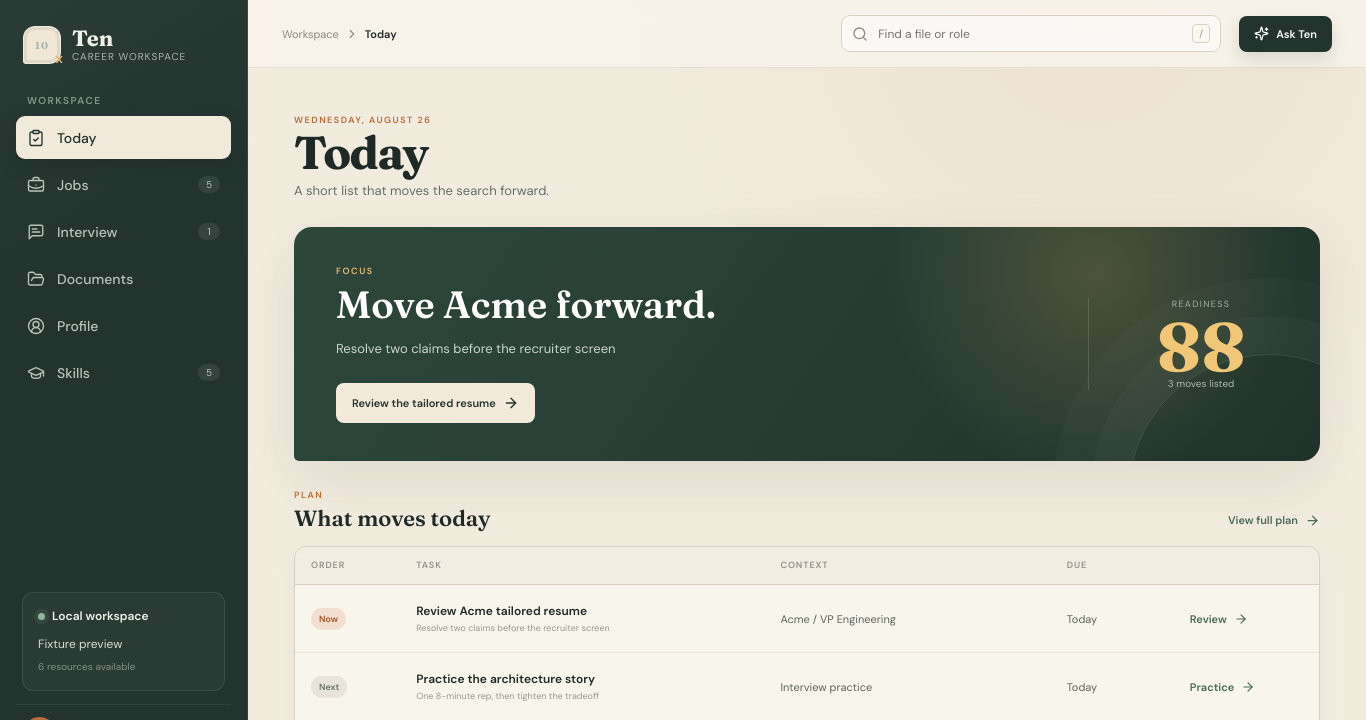
Test: workspace preview › selects and edits a document through the fixture provider
Click the button "Documents" at (124, 278), box x1=16 y1=257 x2=231 y2=300
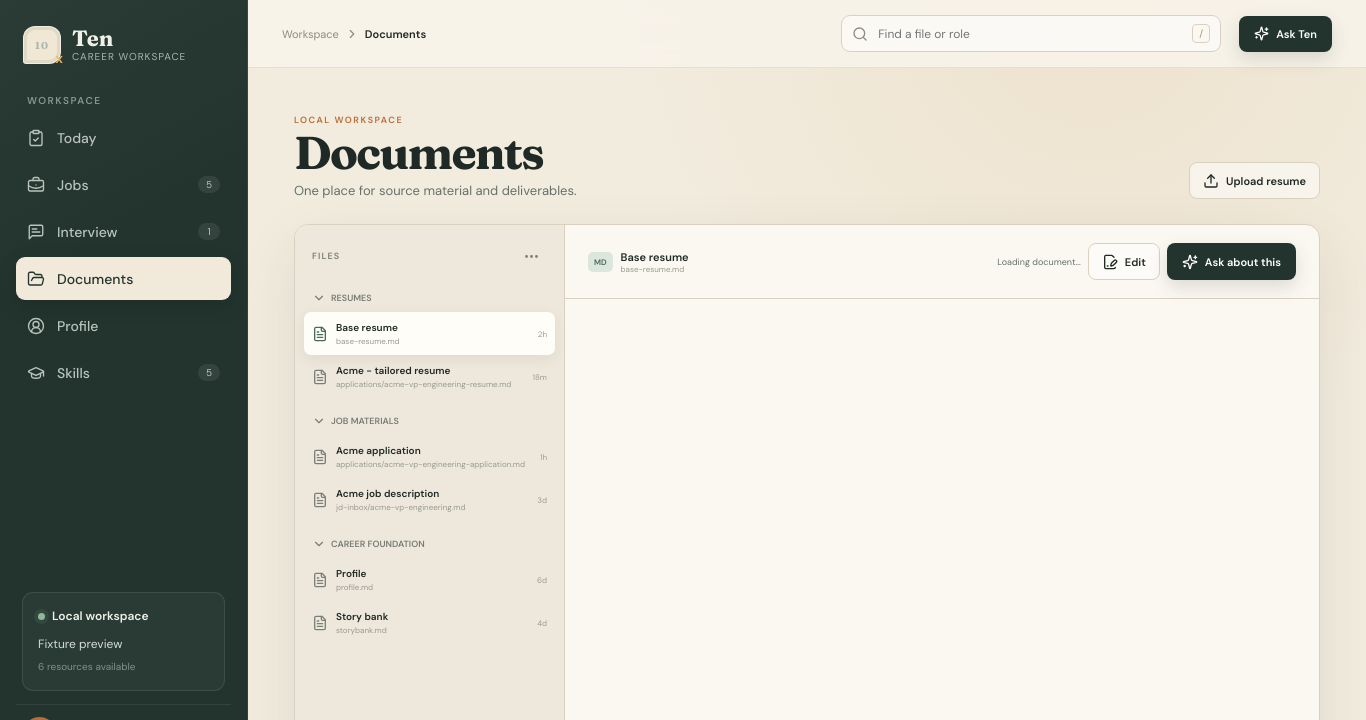
Click the button "Base resume base-resume.md 2h" at (430, 334), box x1=304 y1=312 x2=555 y2=355
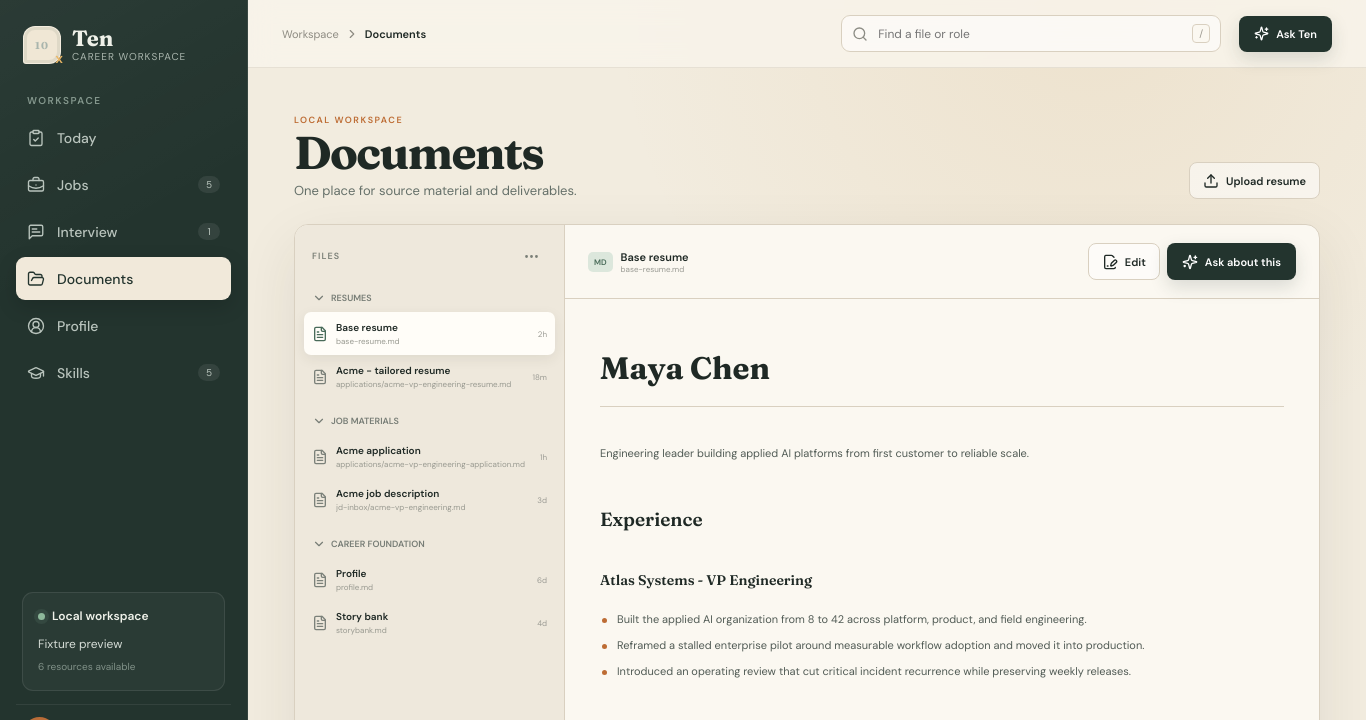
Now the heading "Maya Chen" is shown, box x1=600 y1=349 x2=1284 y2=407
Click the button "Edit" at (1124, 262), box x1=1088 y1=243 x2=1160 y2=280
(page scrolled)
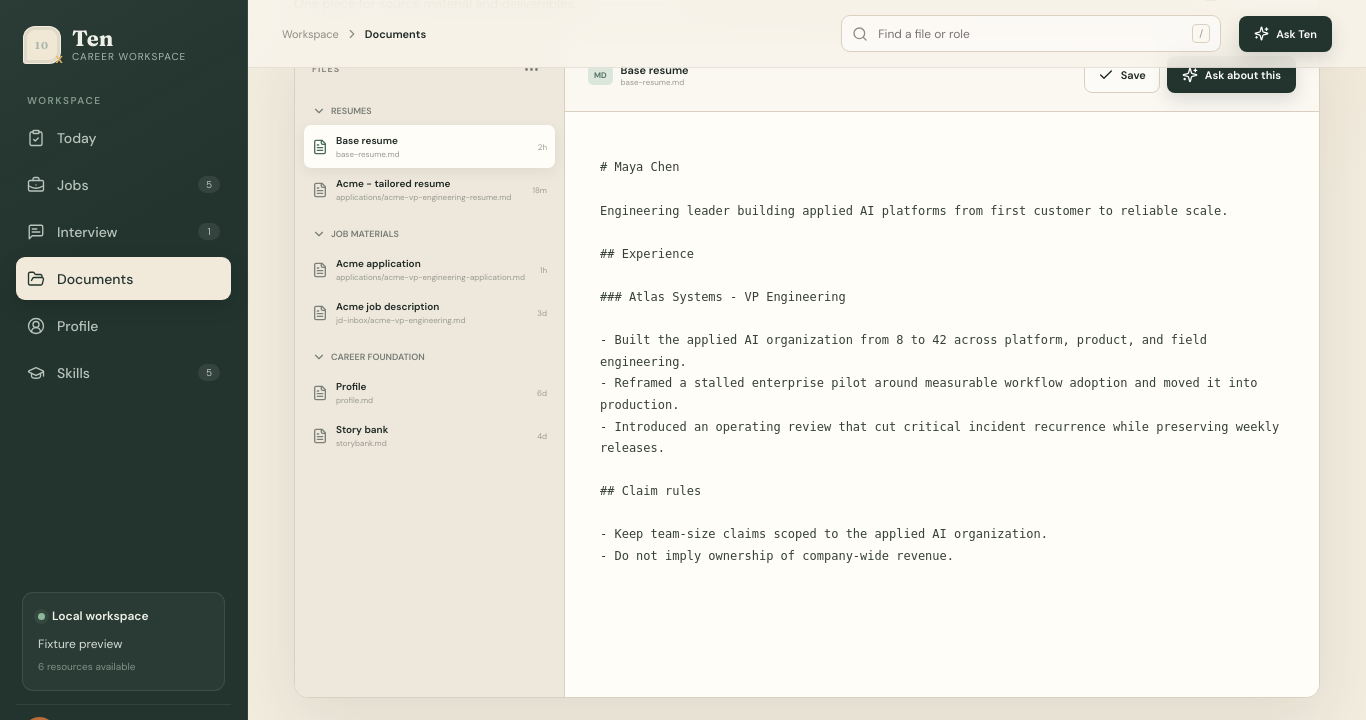
Replace the text in the text box named "Edit Base resume" with "# Revised fixture resume" at (942, 405), box x1=565 y1=112 x2=1319 y2=697
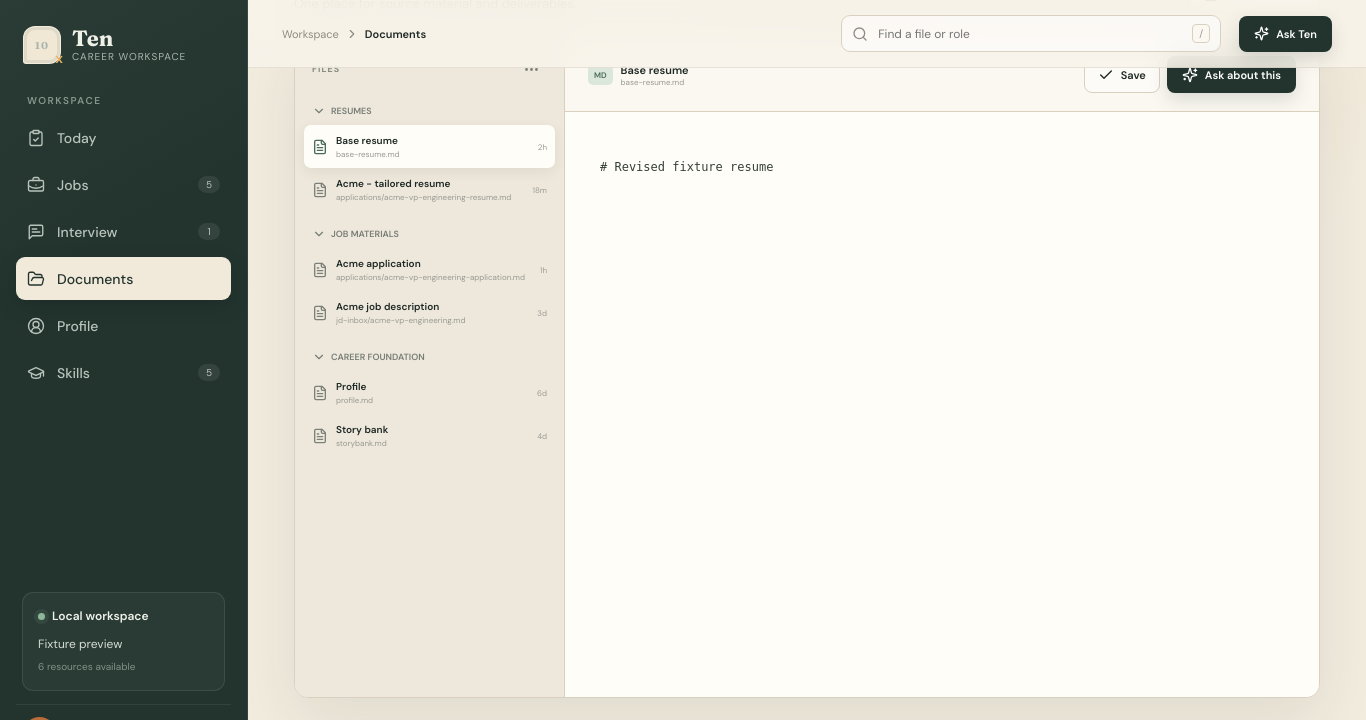
Click the button "Save" at (1122, 75), box x1=1084 y1=56 x2=1160 y2=93
(page scrolled)
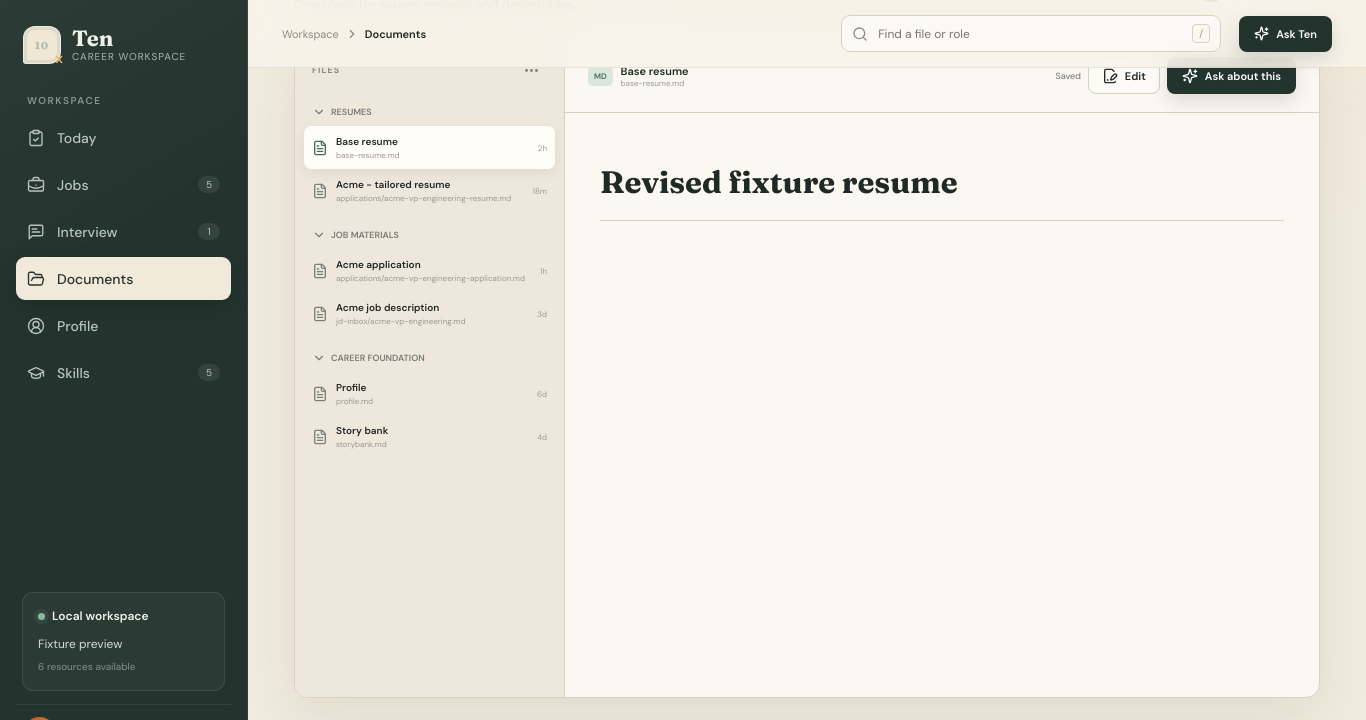
Now the heading "Revised fixture resume" is shown, box x1=600 y1=163 x2=1284 y2=221
